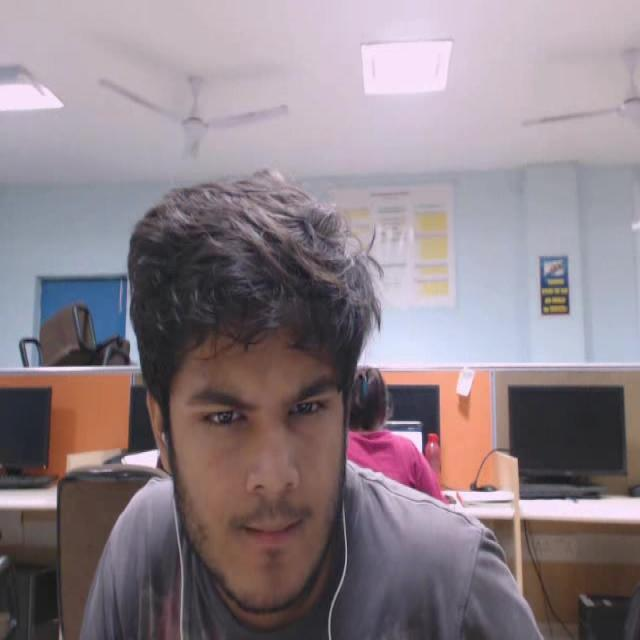Engaged: (124, 161, 392, 618)
